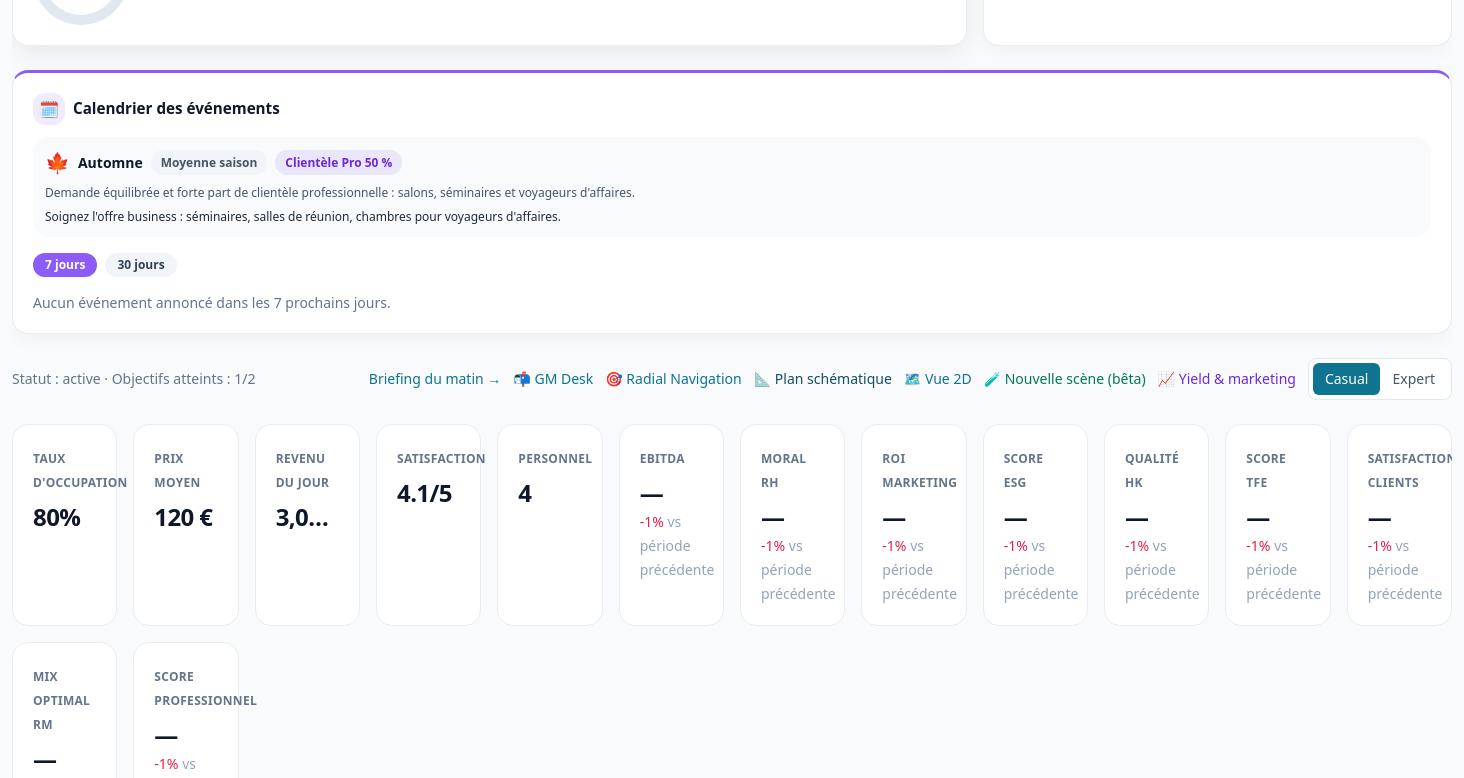
shows the schematic hotel view by default, with a toggle to the 2D view
(page scrolled)
What coordinates should you click on to do the following:
click the button "🗺️ Vue 2D"
I would click on:
 (938, 378)
Its box is [904, 368, 972, 388].
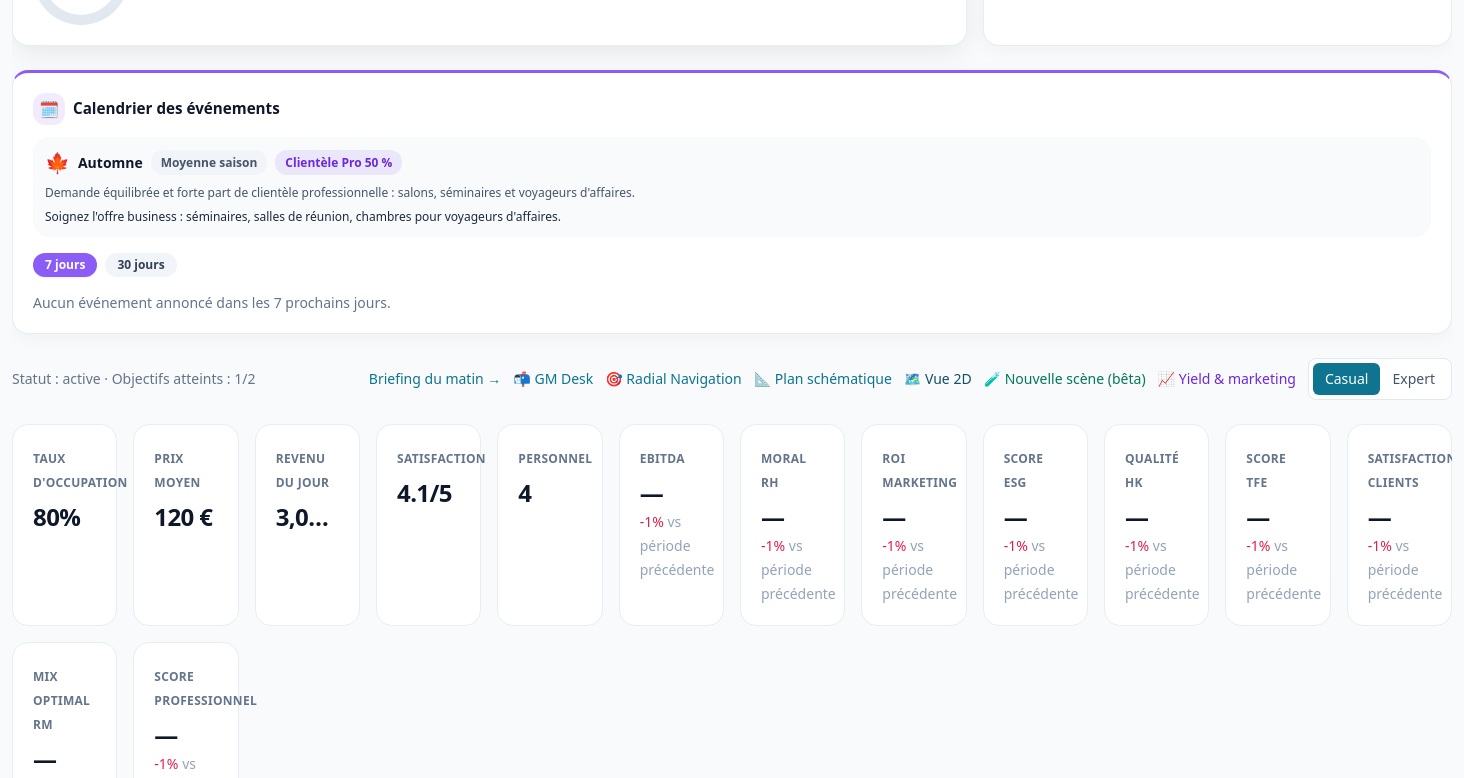
What coordinates should you click on to do the following:
click the button "📐 Plan schématique"
I would click on:
 (823, 378)
Its box is [754, 368, 892, 388].
(page scrolled)
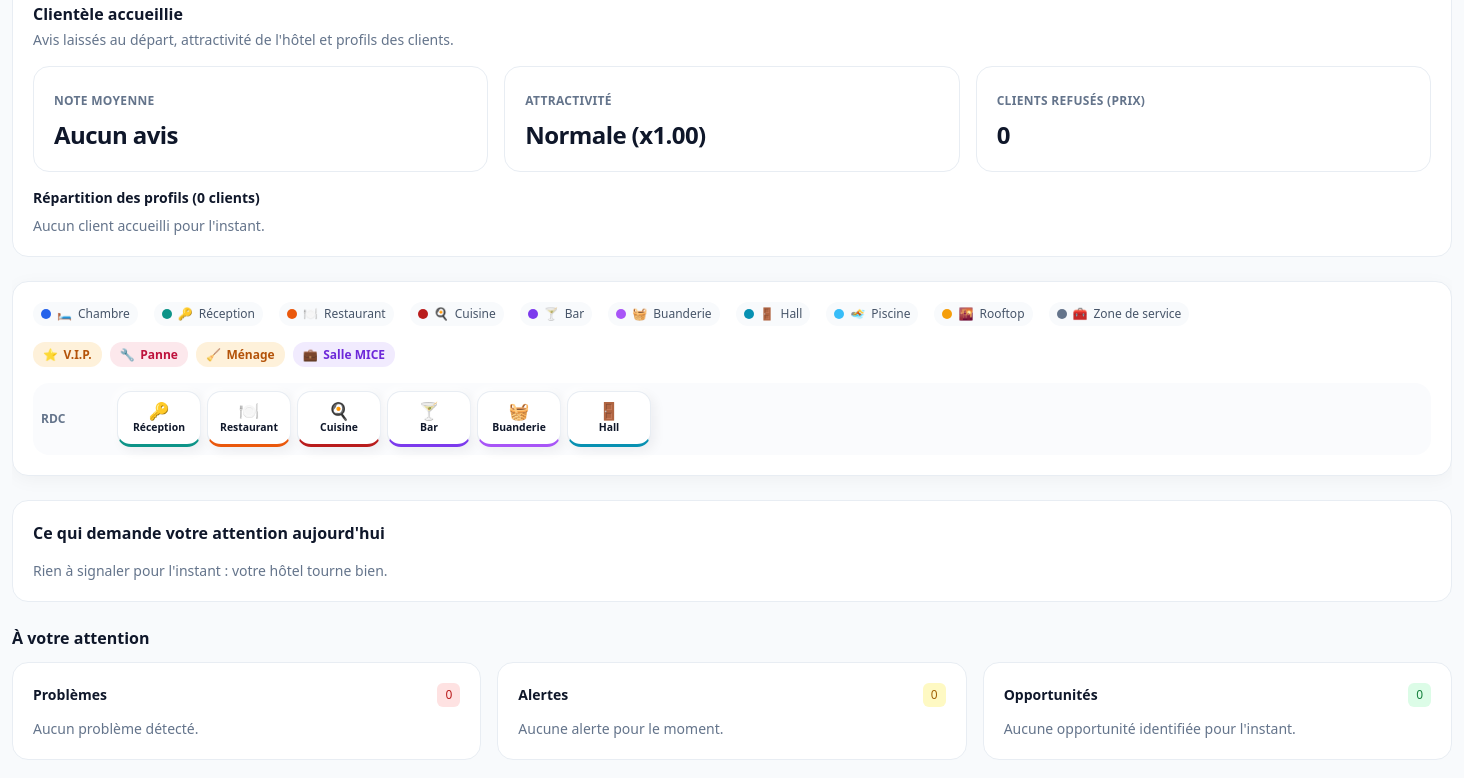
Expected: the element with test id "schematic-hotel-view" is shown, [12, 280, 1452, 476]
